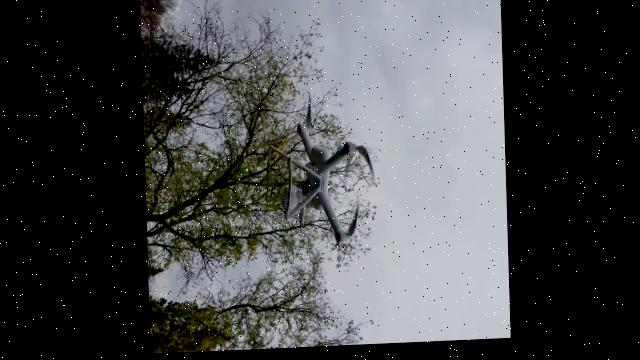drone: (272, 98, 371, 262)
